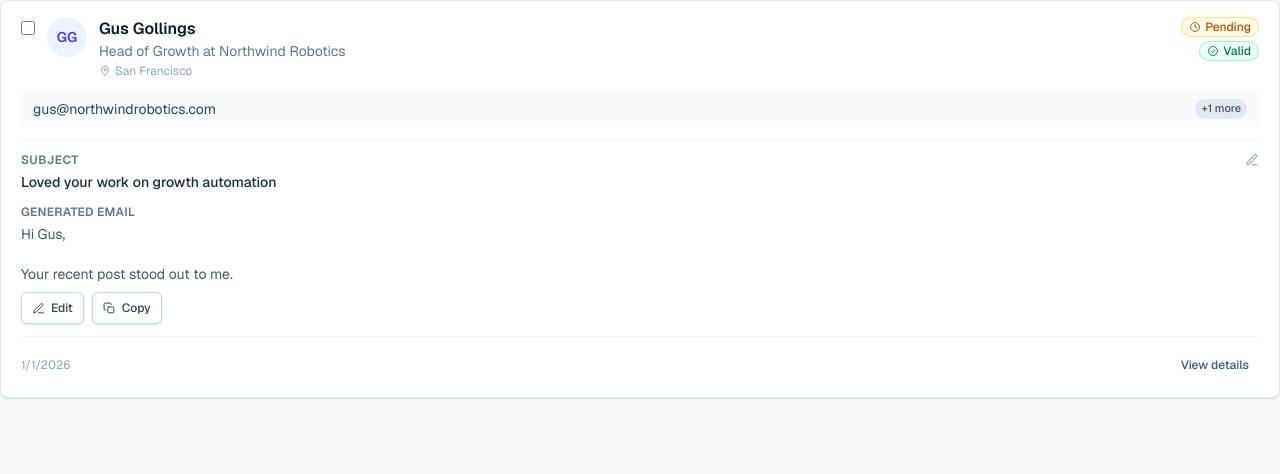
Scenario: LeadCard › cancels an in-progress edit without saving
Click the button named "Edit subject".
click(1252, 160)  # box [1245, 153, 1259, 167]
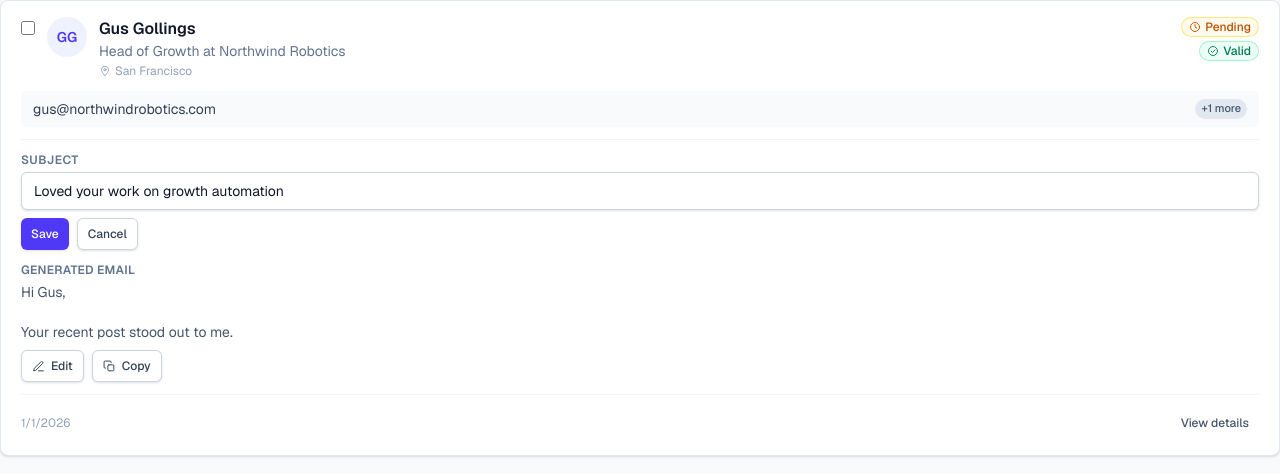
Click the button "Cancel".
click(107, 234)  # box [77, 218, 138, 250]
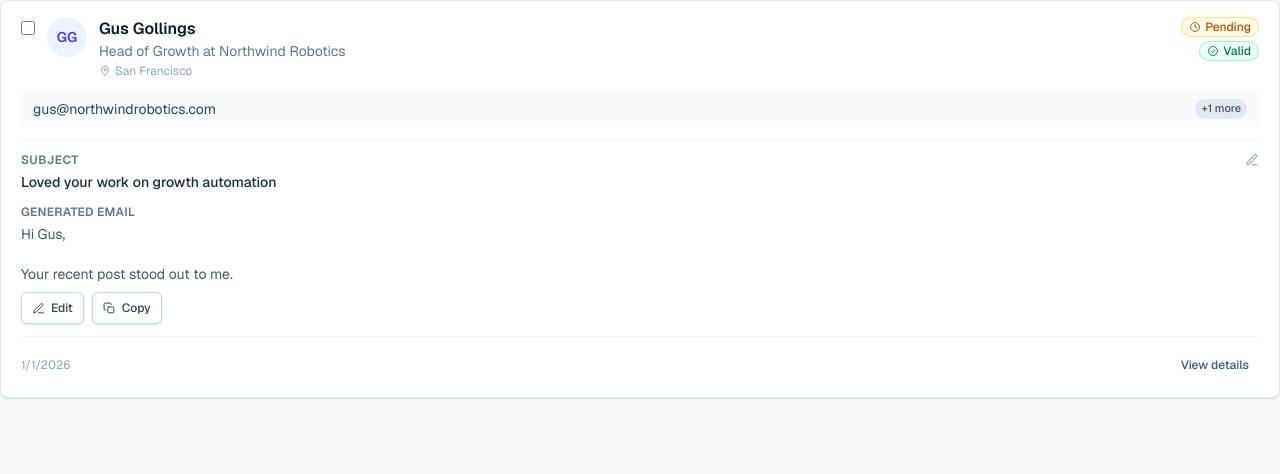
Expected: the text "Loved your work on growth automation" is shown, [21, 173, 276, 191]
